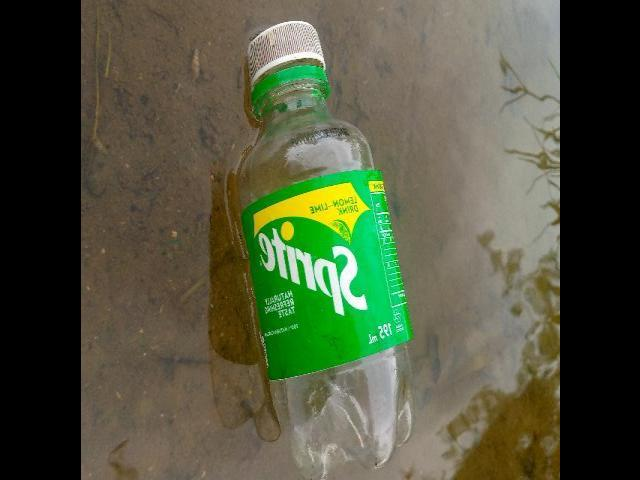Bottle: (227, 11, 423, 480)
